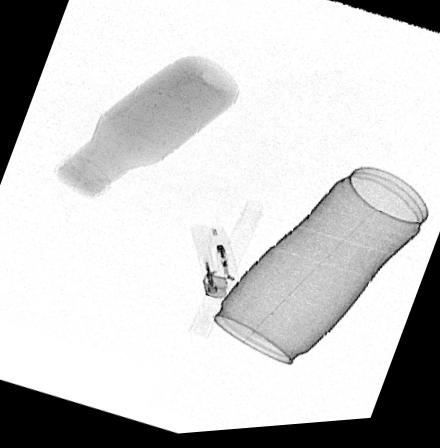Lighter: (189, 228, 239, 306)
